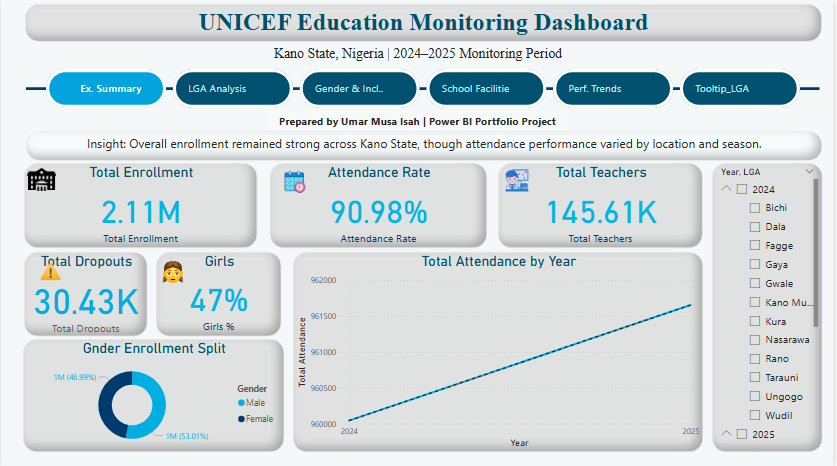

The page's visual inventory and layout, read from the dashboard file:
{"tool":"powerbi","page":{"name":"Executive Summary","canvas":[1280,720],"ordinal":0},"visuals":[{"type":"shape","box":[38.3,105.6,1221.1,60.5],"z":0},{"type":"card","title":"Total Enrollment","fields":{"Values":["Raw_Data.Total Enrollment"]},"box":[35.4,250.6,358.6,131],"z":0,"group":"g1"},{"type":"card","title":"Attendance Rate","fields":{"Values":["Raw_Data.Attendance Rate"]},"box":[414.4,250.5,334.1,131],"z":1000,"group":"g2"},{"type":"donutChart","title":"Gnder Enrollment Split","fields":{"Y":["Sum(Raw_Data.Enrollment)"],"Category":["Raw_Data.Gender"]},"box":[33.1,521.3,401.8,174.2],"z":1000},{"type":"card","title":"Girls","fields":{"Values":["Raw_Data.Girls %"]},"box":[238.7,387,193,129.6],"z":2000,"group":"g4"},{"type":"lineChart","fields":{"Category":["Raw_Data.Date.Variation.Date Hierarchy.Year","Raw_Data.Date.Variation.Date Hierarchy.Quarter","Raw_Data.Date.Variation.Date Hierarchy.Month","Raw_Data.Date.Variation.Date Hierarchy.Day"],"Y":["Raw_Data.Total Attendance"]},"box":[449.3,387.4,630.7,308.2],"z":2000},{"type":"slicer","fields":{"Values":["Raw_Data.Year","Raw_Data.LGA"]},"box":[1094.4,250.6,169.9,445],"z":3000},{"type":"textbox","box":[36.9,6.2,1226.2,58.5],"z":4000},{"type":"textbox","box":[387.7,64.6,507.7,38.5],"z":5000},{"type":"card","title":"Total Teachers","fields":{"Values":["Raw_Data.Total Teachers"]},"box":[764.6,250.1,315.4,131],"z":5000,"group":"g3"},{"type":"textbox","box":[409.2,170.8,463.1,30.8],"z":6000},{"type":"card","title":"Total Dropouts","fields":{"Values":["Raw_Data.Total Dropouts"]},"box":[35.6,387.4,190.1,129.6],"z":6000,"group":"g5"},{"type":"textbox","box":[37.7,201.9,1225.4,46.1],"z":7000},{"type":"pageNavigator","box":[68.6,105.6,1160.6,60.5],"z":8000},{"type":"group","id":"g1","title":"Group 1","box":[34.2,244.8,359.8,136.8],"z":9000},{"type":"group","id":"g2","title":"Group 2","box":[414.4,250.5,334.1,131],"z":10000},{"type":"group","id":"g3","title":"Group 3","box":[764.6,250.1,315.4,131],"z":11000},{"type":"group","id":"g4","title":"Group 4","box":[238.7,387,193.5,129.5],"z":12000},{"type":"image","box":[34.2,244.8,56.5,62.9],"z":13000,"group":"g1"},{"type":"group","id":"g5","title":"Group 5","box":[35.6,387.4,190.1,129.6],"z":13000},{"type":"image","box":[240.1,387,49,60.5],"z":14000,"group":"g4"},{"type":"image","box":[769.6,252.9,49.5,47.4],"z":15000,"group":"g3"},{"type":"image","box":[54.3,392.3,44.6,50.4],"z":16000,"group":"g5"},{"type":"image","box":[425.6,256.1,56.2,47.4],"z":17000,"group":"g2"}]}

Visuals, with their boxes in screenshot pixels (x1, y1, x2, y2), scaled from the page's 1280x720 canvas onto the 837x466 screenshot:
shape: 25:68:824:108
"Total Enrollment" card: 23:162:258:247
"Attendance Rate" card: 271:162:489:247
"Gnder Enrollment Split" donutChart: 22:337:284:450
"Girls" card: 156:250:282:334
lineChart - Raw_Data.Date.Variation.Date Hierarchy.Year x Raw_Data.Date.Variation.Date Hierarchy.Quarter: 294:251:706:450
slicer - Raw_Data.Year x Raw_Data.LGA: 716:162:827:450
textbox: 24:4:826:42
textbox: 254:42:586:67
"Total Teachers" card: 500:162:706:247
textbox: 268:111:570:130
"Total Dropouts" card: 23:251:148:335
textbox: 25:131:826:161
pageNavigator: 45:68:804:108
"Group 1" group: 22:158:258:247
"Group 2" group: 271:162:489:247
"Group 3" group: 500:162:706:247
"Group 4" group: 156:250:283:334
image: 22:158:59:199
"Group 5" group: 23:251:148:335
image: 157:250:189:290
image: 503:164:536:194
image: 36:254:65:287
image: 278:166:315:196
